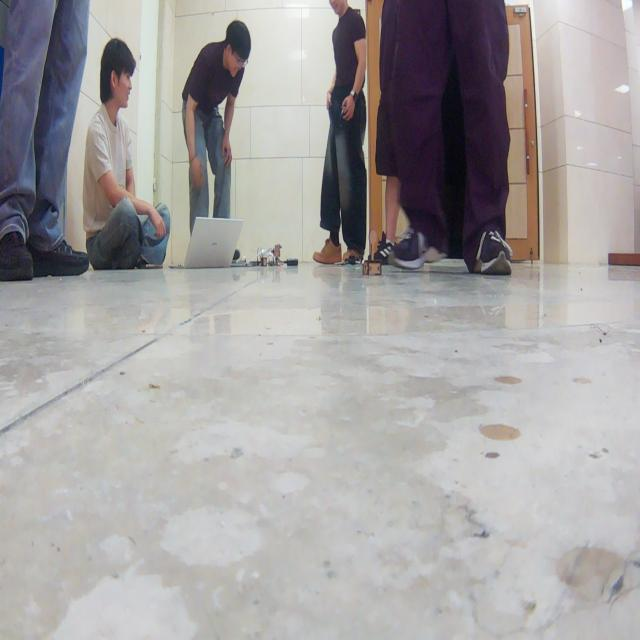target: (362, 229, 382, 276)
